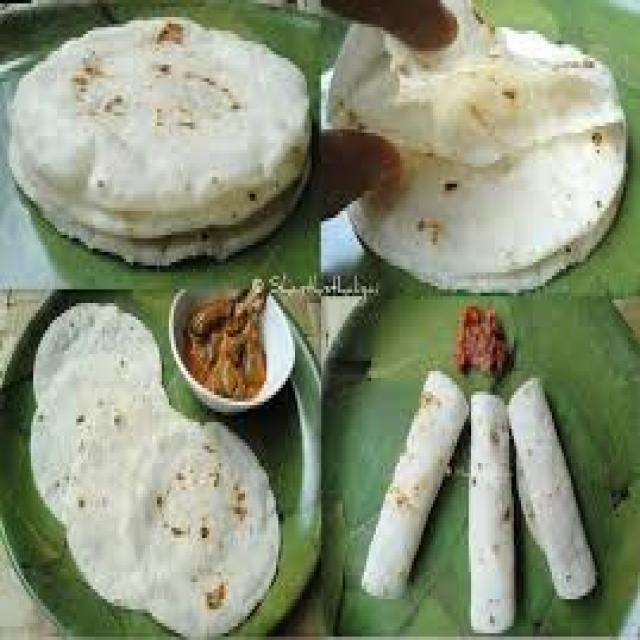IDLI: (362, 378, 464, 592)
RICE BHAKRI: (324, 0, 623, 286), (33, 303, 278, 637), (10, 17, 309, 259), (509, 378, 590, 596), (469, 395, 514, 630)
